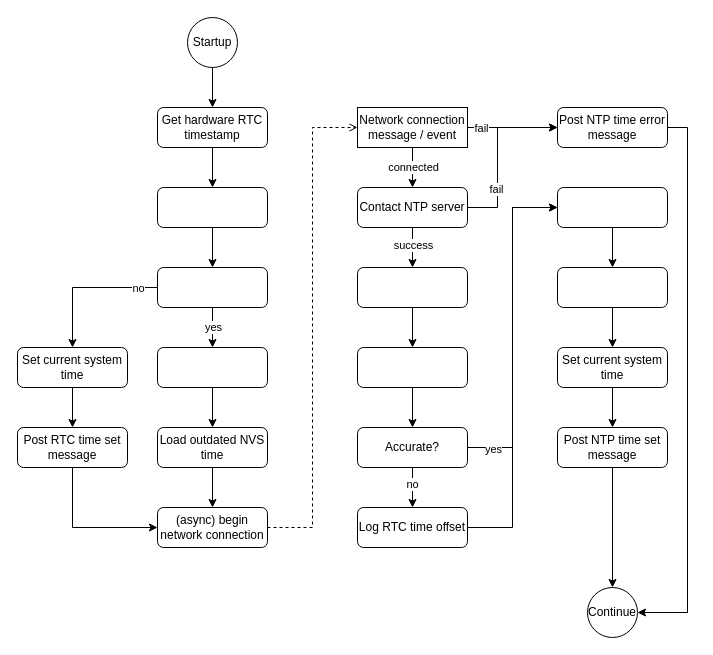
Some shapes in this 713 by 655 pixel diagram are drawn without their labels. Here are the shapes that lost their labels. From the top down, the centre of each, then its label:
At point (212, 207): "Get NVS clock config".
At point (612, 207): "Save time to hardware RTC".
At point (212, 287): "Is hardware RTC default value?".
At point (412, 287): "Retrieve NTP time".
At point (612, 287): "Save time to NVS".
At point (212, 367): "Post dead battery message".
At point (412, 367): "Compare with hardware RTC time".
